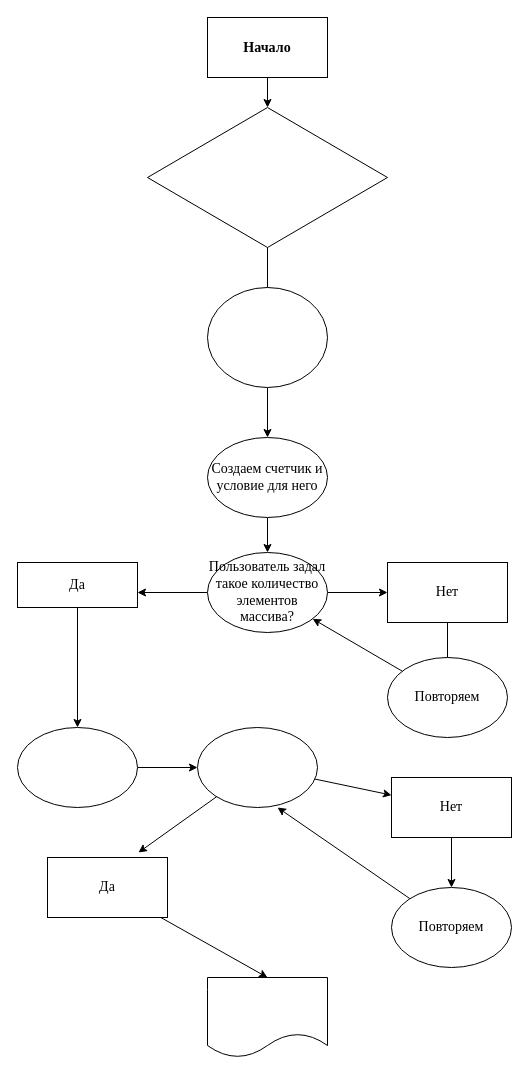
Some shapes in this 529 by 1075 pixel diagram are drawn without their labels. The centre of each missing label's shape, as x and y in pixels:
"Задаем массивы" goes at pixel 267 337.
"Запрашиваем у пользователя условие" goes at pixel 267 177.
"Переходим к первому массиву" goes at pixel 77 767.
"Переходим ко второму массиву и получаем результат" goes at pixel 267 1017.
"Счетчик символов элементов массива больше либо равен 3" goes at pixel 257 767.
